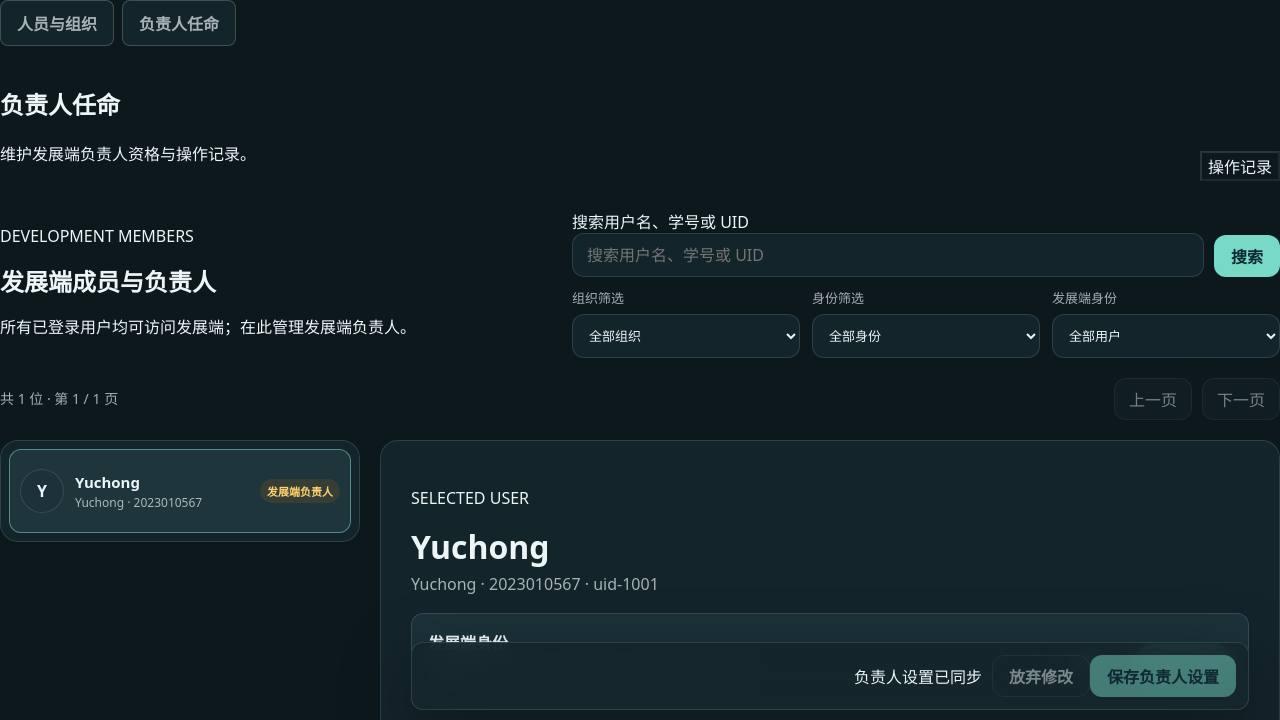
AdminPage shell › loads operation records only after opening the secondary panel
The image size is (1280, 720).
Click the button "操作记录". click: (1240, 166)
box: [1200,151,1279,181]
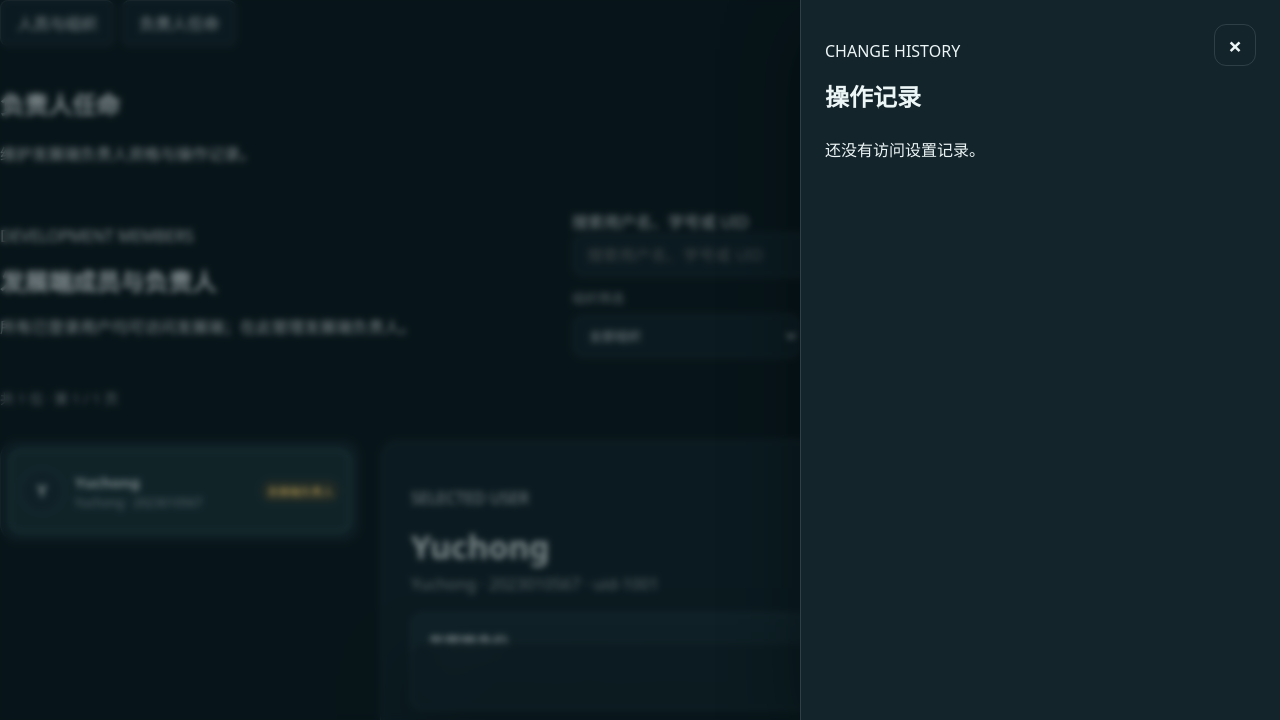
Expected: the dialog "操作记录" is shown, [800,0,1279,719]
